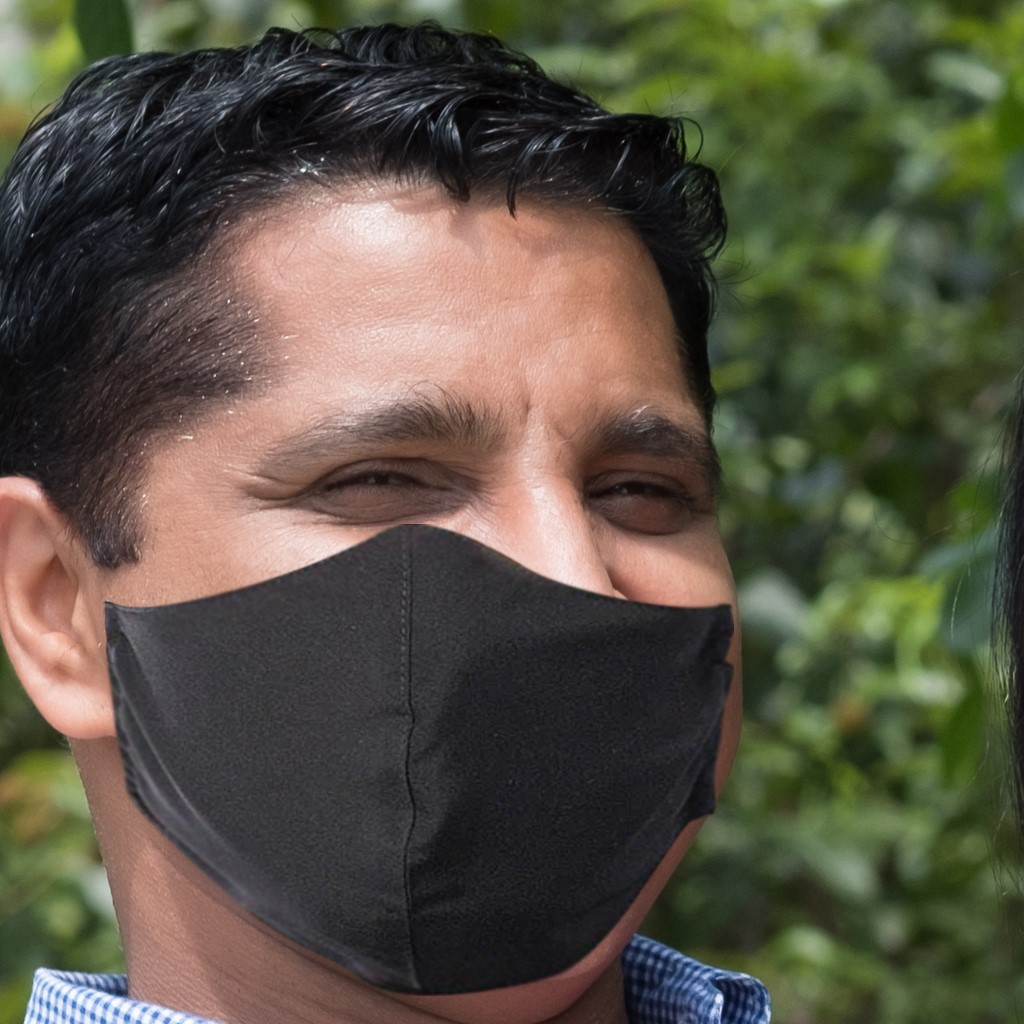con_mascara: (67, 162, 720, 965)
